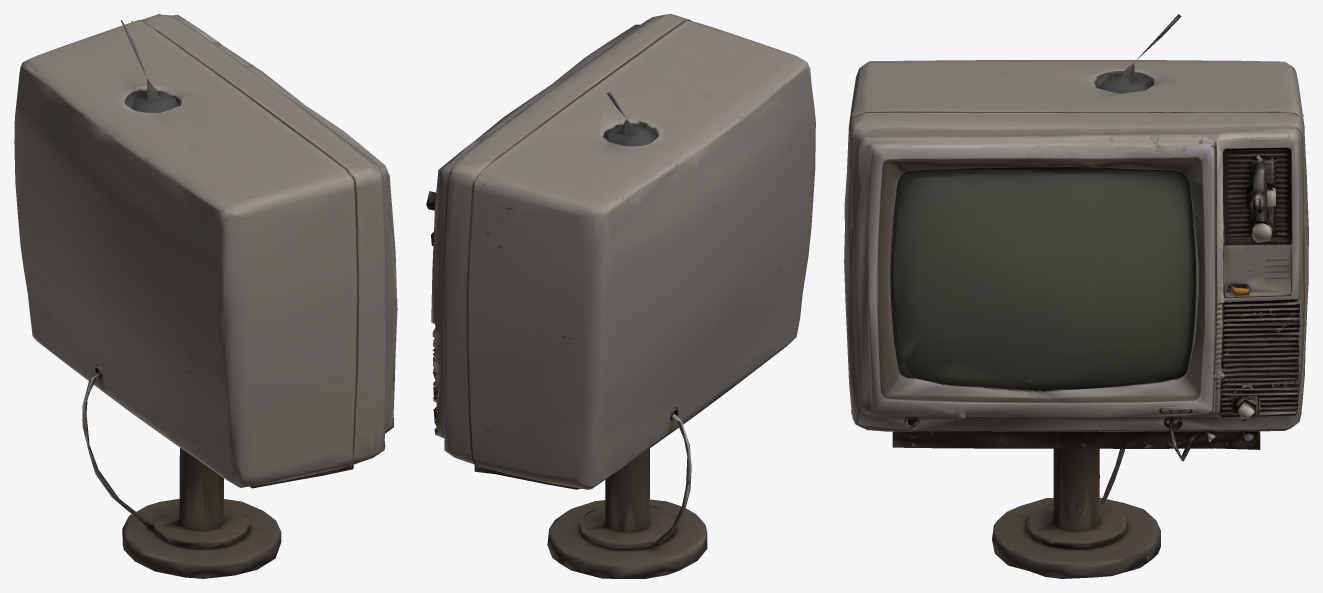
File: tele.glb
3 views of the same model, side by side, from view 1: azimuth 30°, elevation 25°; view 2: azimuth 150°, elevation 25°; view 3: azimuth 270°, elevation 25° (orthographic). The views are drawn at different scales.
Parts seen in each view (by area): view 1: tripo_node_82e60bd0-4dec-4106-959f-d7d292de8d61; view 2: tripo_node_82e60bd0-4dec-4106-959f-d7d292de8d61; view 3: tripo_node_82e60bd0-4dec-4106-959f-d7d292de8d61.
Part boxes in pixels (x1,y1,x2,y2): tripo_node_82e60bd0-4dec-4106-959f-d7d292de8d61: (14, 14, 397, 578); tripo_node_82e60bd0-4dec-4106-959f-d7d292de8d61: (426, 14, 815, 578); tripo_node_82e60bd0-4dec-4106-959f-d7d292de8d61: (844, 14, 1308, 578).
Bounding box in the file's own units: 0.4318 × 1 × 0.8169.
1 material, 1 textured.
